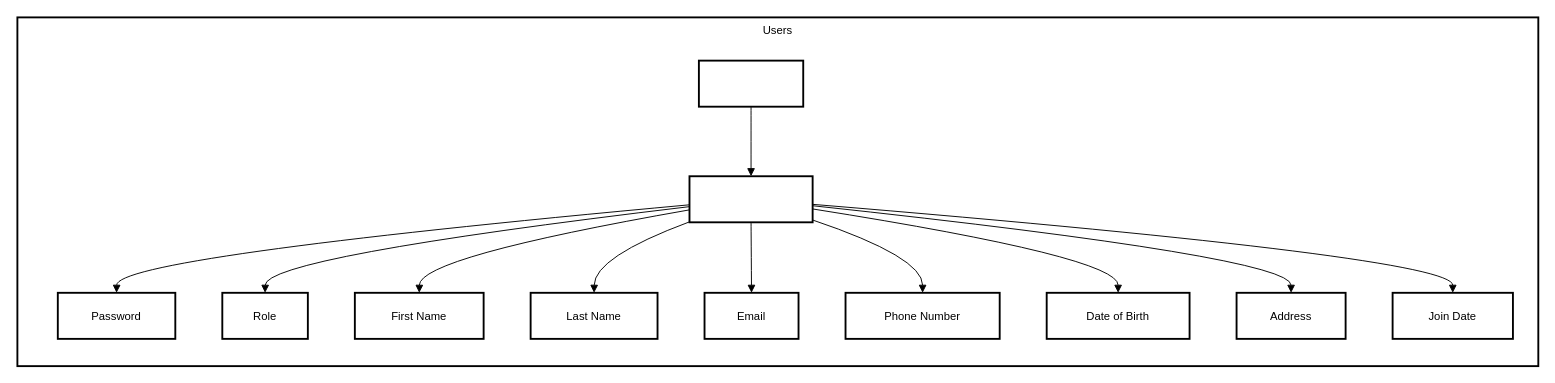
This 1555x383 diagram has some shape labels left out. The shapes that lost their labels are listed below. From the top down, each one's centre as x and y in pixels, then its label:
pixel 750 83: User ID
pixel 750 199: Username
